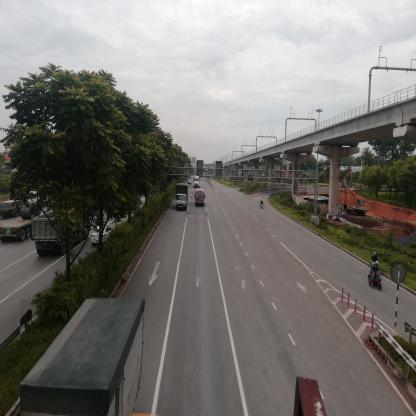bus: (196, 188, 207, 209)
container: (194, 177, 201, 189)
motorbike: (369, 265, 383, 290), (373, 254, 380, 269), (261, 199, 267, 209)
truck: (20, 300, 146, 416), (177, 184, 189, 213)
